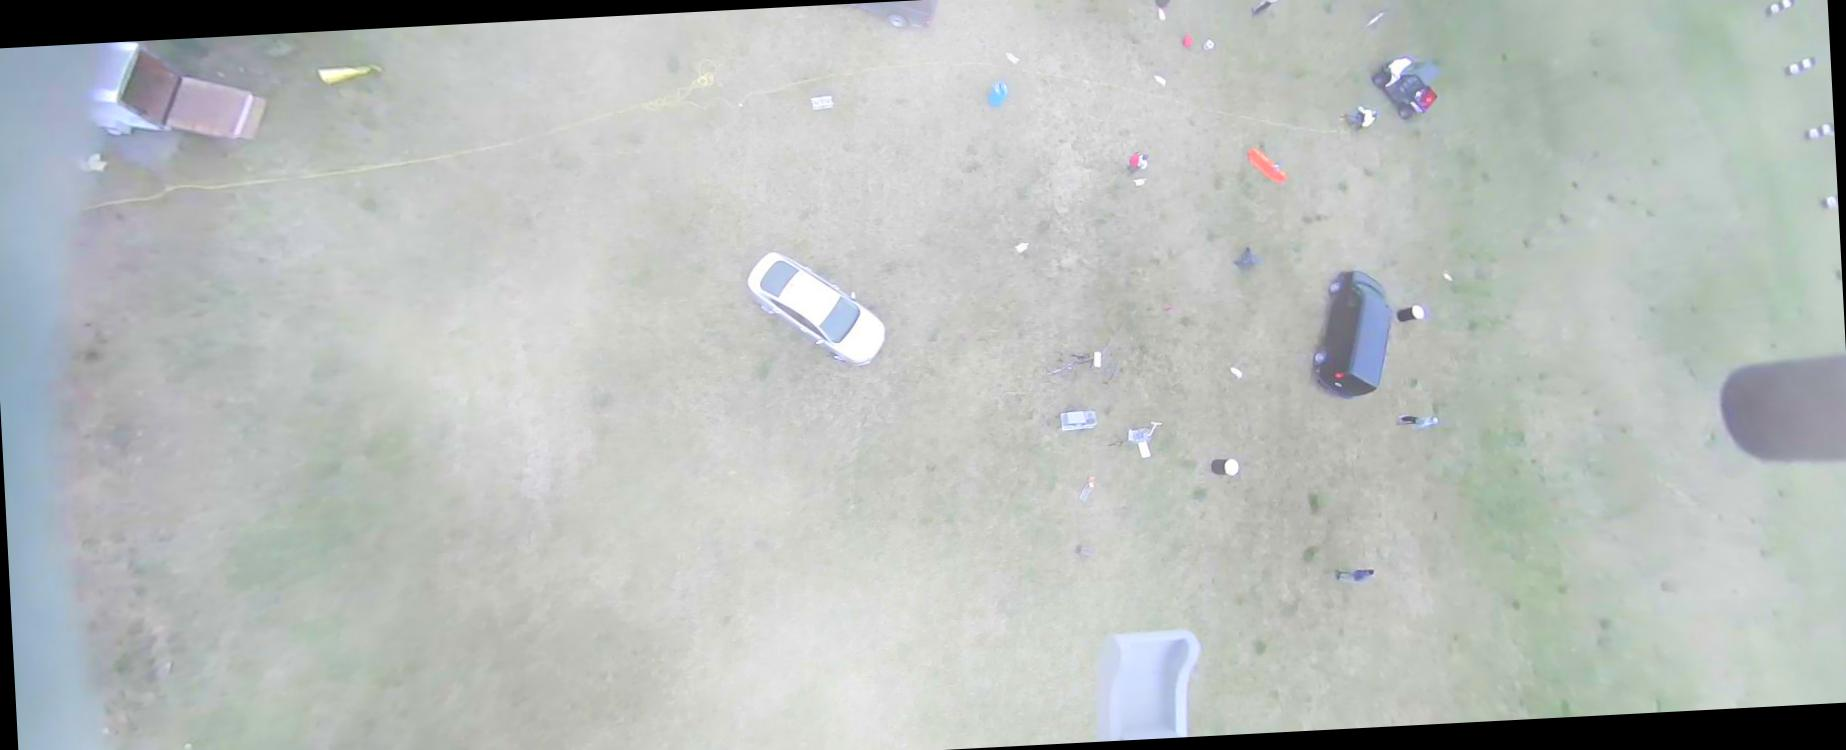vehicle: (744, 244, 889, 372), (1307, 268, 1400, 400), (1369, 54, 1439, 121), (838, 0, 940, 33)
